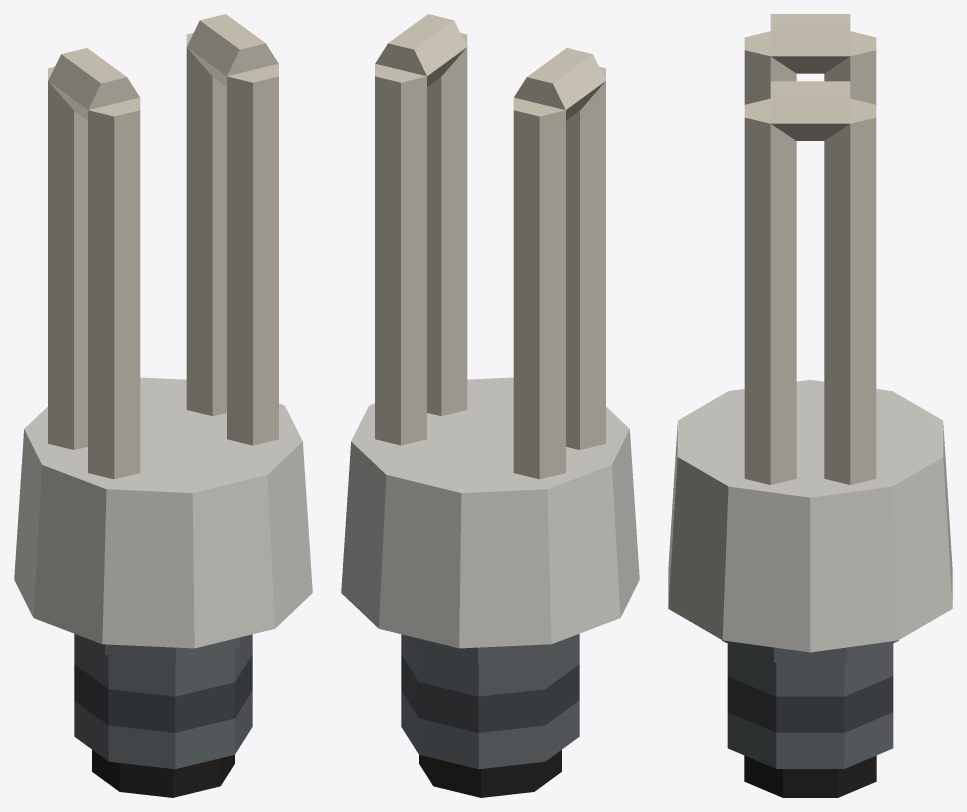
Rendered from lightbulb_lyuminestsentnaya_trubka_idle.glb.
The picture shows the model from 3 angles, left to right: view 1: azimuth 30°, elevation 25°; view 2: azimuth 150°, elevation 25°; view 3: azimuth 270°, elevation 25°; orthographic projection.
Parts seen in each view (by area): view 1: lightbulb_lyuminestsentnaya_trubka_idle; view 2: lightbulb_lyuminestsentnaya_trubka_idle; view 3: lightbulb_lyuminestsentnaya_trubka_idle.
Boxes of the visible parts, x1,y1,x2,y2 form: lightbulb_lyuminestsentnaya_trubka_idle: [14, 14, 312, 797]; lightbulb_lyuminestsentnaya_trubka_idle: [341, 14, 639, 797]; lightbulb_lyuminestsentnaya_trubka_idle: [668, 14, 952, 797].
Bounding box in the file's own units: 0.045 × 0.1189 × 0.0428.
Materials: 1 (1 with a texture image).
